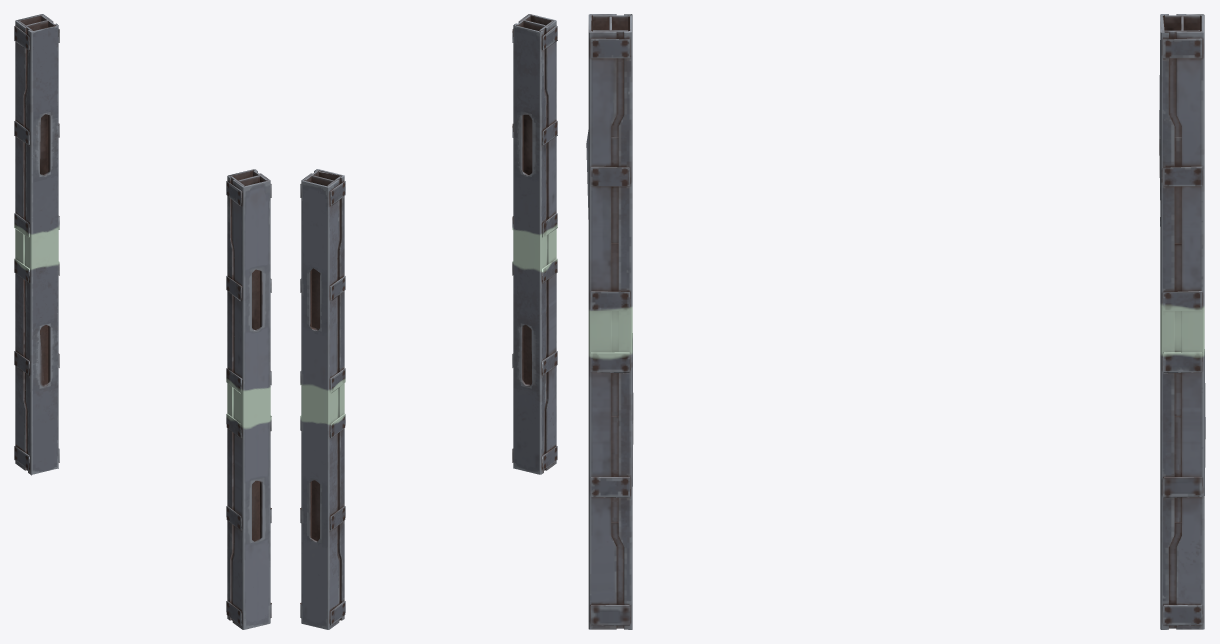
The model's file is BP_FenceSupport_Metal_C.glb.
The picture shows the model from 3 angles, left to right: view 1: azimuth 30°, elevation 25°; view 2: azimuth 150°, elevation 25°; view 3: azimuth 270°, elevation 25°; orthographic projection. The views are drawn at different scales.
Visible parts, largest first — view 1: SM_Metal_FenceSupport; view 2: SM_Metal_FenceSupport; view 3: SM_Metal_FenceSupport.
Part boxes in pixels (x1=…): SM_Metal_FenceSupport: x1=14, y1=14, x2=271, y2=629; SM_Metal_FenceSupport: x1=300, y1=14, x2=557, y2=629; SM_Metal_FenceSupport: x1=586, y1=14, x2=1205, y2=629.
Bounding box in the file's own units: 0.2241 × 3.01 × 2.82.
Materials: 1 (1 with a texture image).
